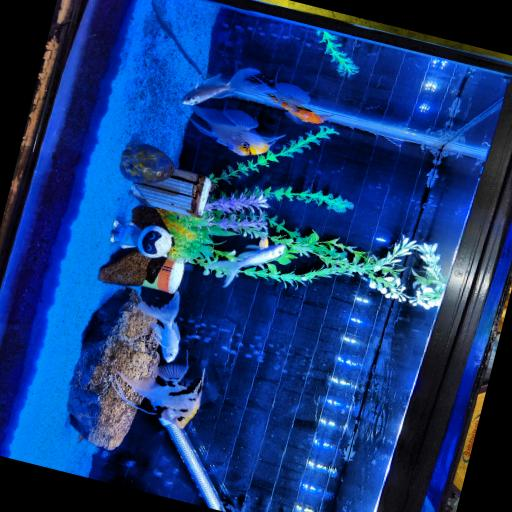Fish: (115, 365, 203, 428), (189, 106, 283, 156), (181, 68, 274, 105), (206, 244, 284, 287), (137, 292, 179, 362), (267, 83, 330, 123), (257, 236, 268, 249)
